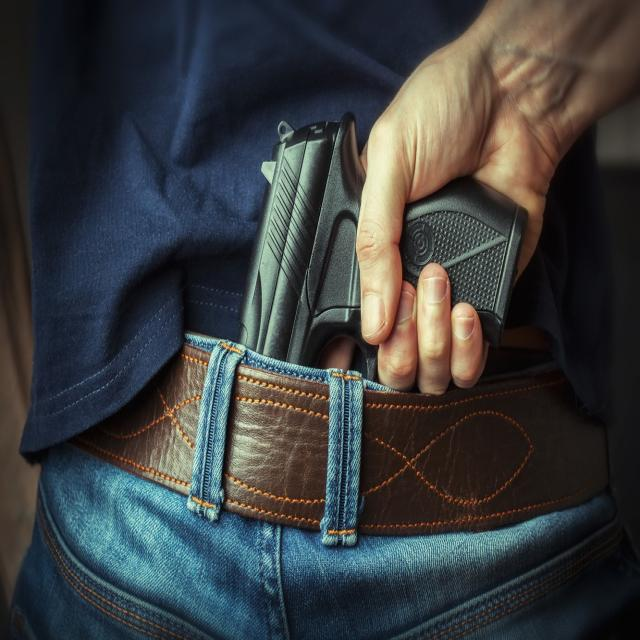HandGun: (240, 113, 527, 383)
